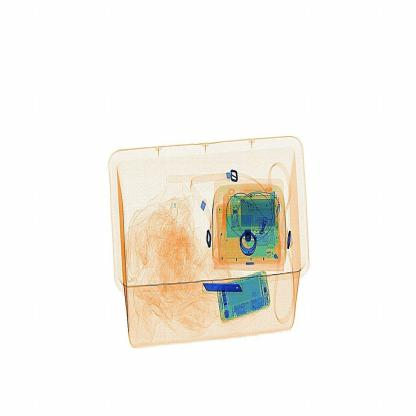pliers: (193, 275, 250, 302)
